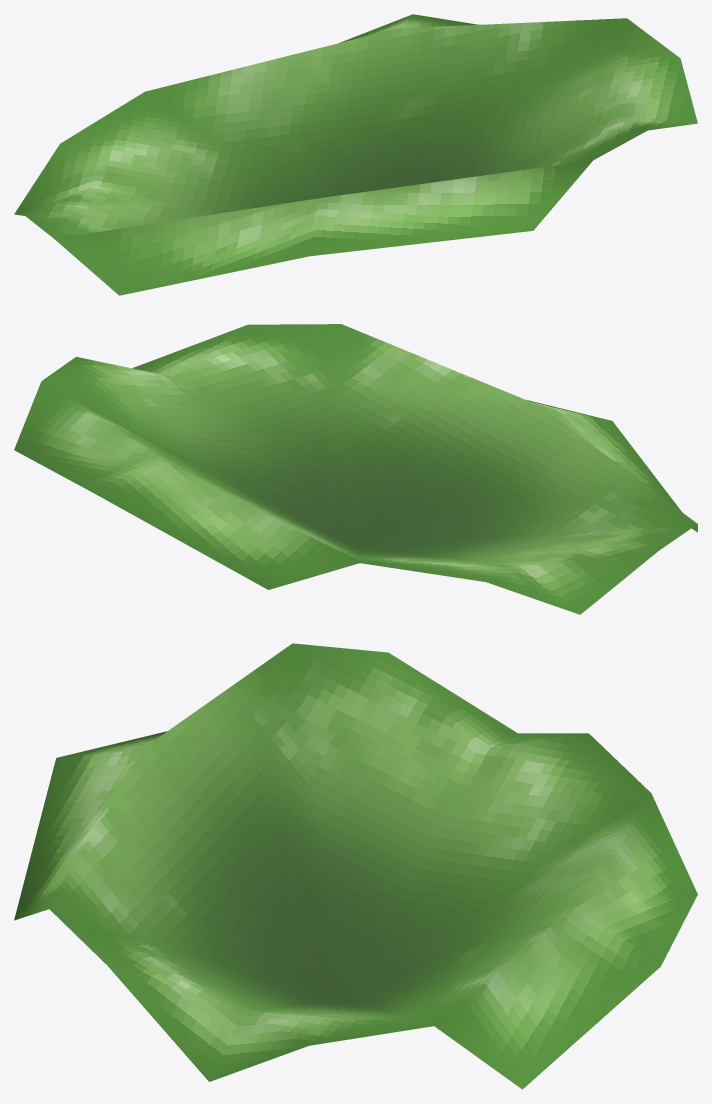
File: LettuceWrap.fbx
3 views of the same model, one above another, from view 1: azimuth 30°, elevation 25°; view 2: azimuth 150°, elevation 25°; view 3: azimuth 270°, elevation 25° (orthographic). The views are drawn at different scales.
Parts seen in each view (by area): view 1: Lettuce; view 2: Lettuce; view 3: Lettuce.
Boxes of the visible parts, x1,y1,x2,y2 form: Lettuce: [14, 14, 697, 295]; Lettuce: [14, 324, 697, 614]; Lettuce: [14, 643, 697, 1089].
Bounding box in the file's own units: 22.99 × 4.58 × 15.35.
